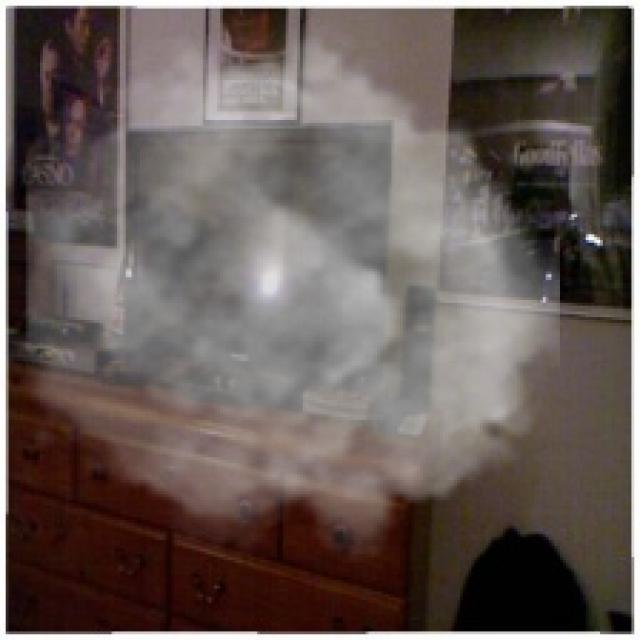Smoke: (26, 14, 560, 563)
